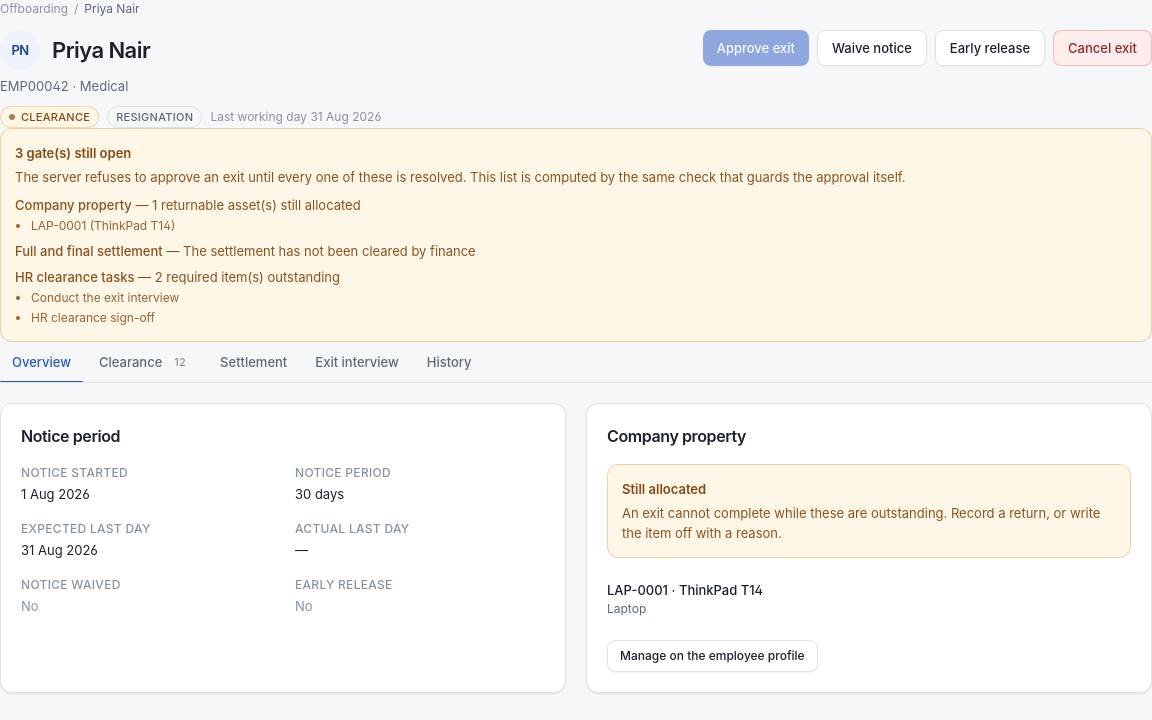
Test: Permission-driven actions › requires a substantial reason to waive notice
Click the button "Waive notice" at (872, 48), box [817,30,927,66]
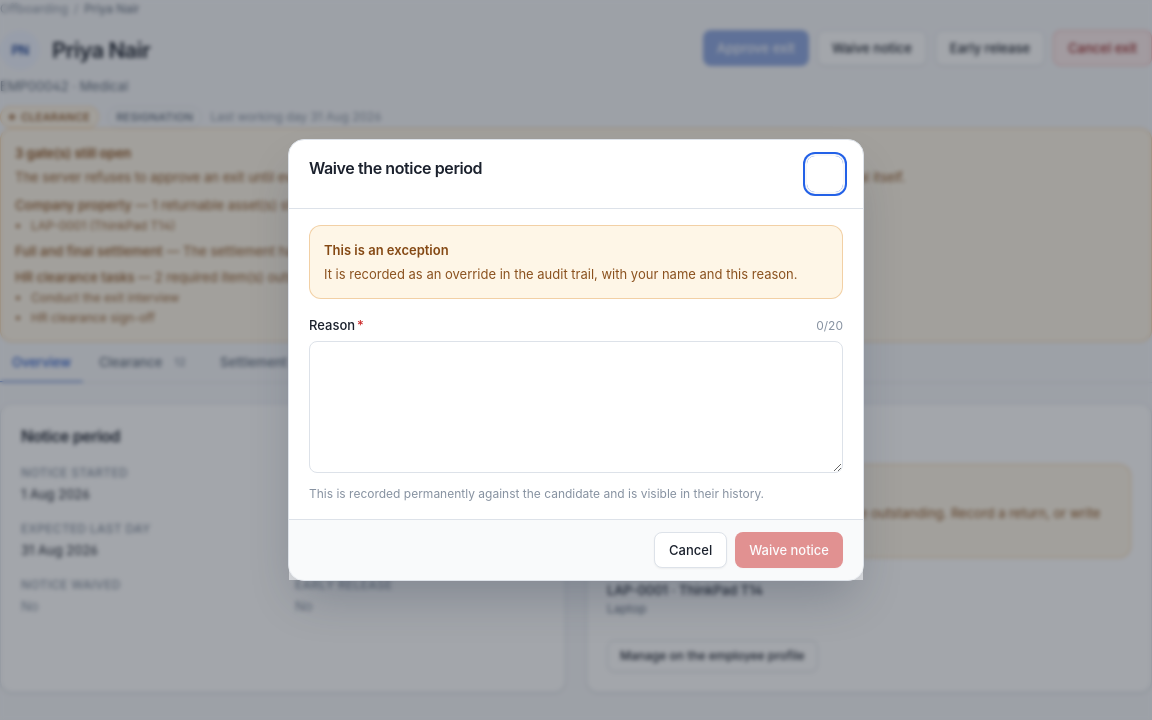
Now the button "Waive notice" is disabled, box [735,532,843,568]
Now the text "This is an exception" is shown, box [324,242,449,258]
